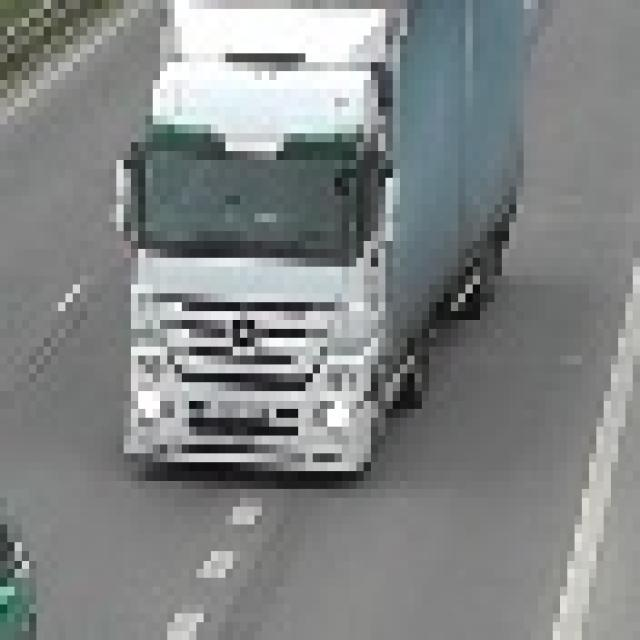TRUCK: (120, 1, 527, 480)
